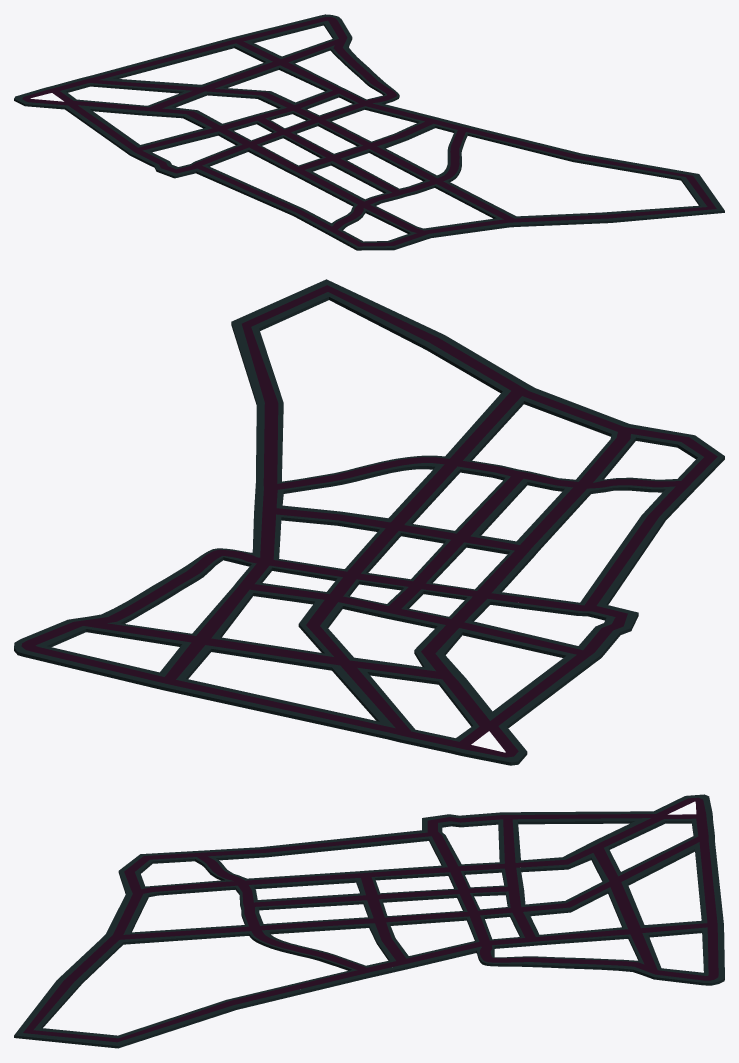
Rendered from rod.fbx.
3 views of the same model, one above another, from view 1: azimuth 30°, elevation 25°; view 2: azimuth 150°, elevation 25°; view 3: azimuth 270°, elevation 25° (orthographic). The views are drawn at different scales.
Parts seen in each view (by area): view 1: foot path, road; view 2: foot path, road; view 3: foot path, road.
Boxes of the visible parts, left/top/right/bottom form: foot path: left=14, top=14, right=724, bottom=250; road: left=22, top=17, right=716, bottom=246; foot path: left=14, top=279, right=724, bottom=765; road: left=21, top=285, right=717, bottom=757; foot path: left=14, top=794, right=724, bottom=1048; road: left=23, top=797, right=718, bottom=1042.
Bounding box in the file's own units: 6837 × 31.61 × 8166.
